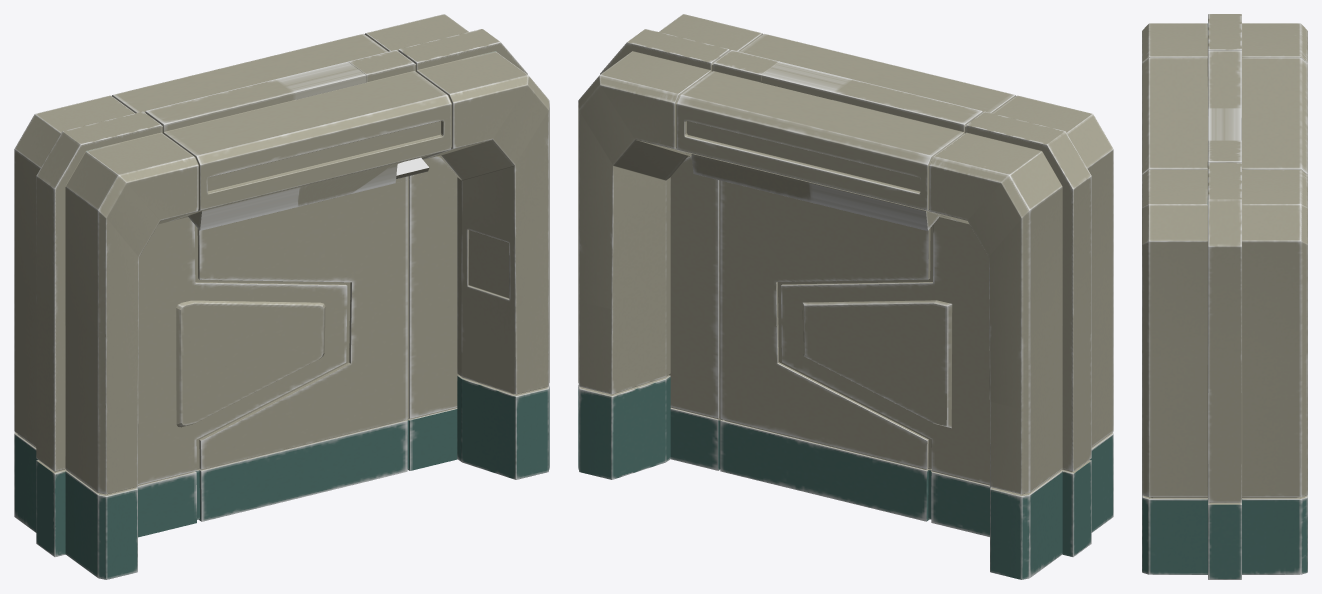
File: doorRemake.fbx
The picture shows the model from 3 angles, left to right: view 1: azimuth 30°, elevation 25°; view 2: azimuth 150°, elevation 25°; view 3: azimuth 270°, elevation 25°; orthographic projection. The views are drawn at different scales.
Visible parts, largest first — view 1: Door, Door.001; view 2: Door, Door.001; view 3: Door.
Boxes of the visible parts, box(x1,y1,x2,y2) form: Door: box(14, 14, 549, 579); Door.001: box(137, 156, 458, 537); Door: box(578, 14, 1113, 579); Door.001: box(669, 156, 990, 536); Door: box(1142, 14, 1307, 579).
Bounding box in the file's own units: 289 × 238 × 96.58.
